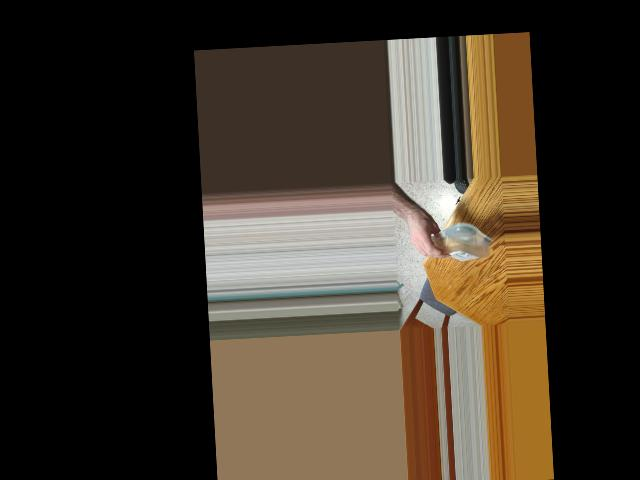cheese: (419, 224, 493, 264)
